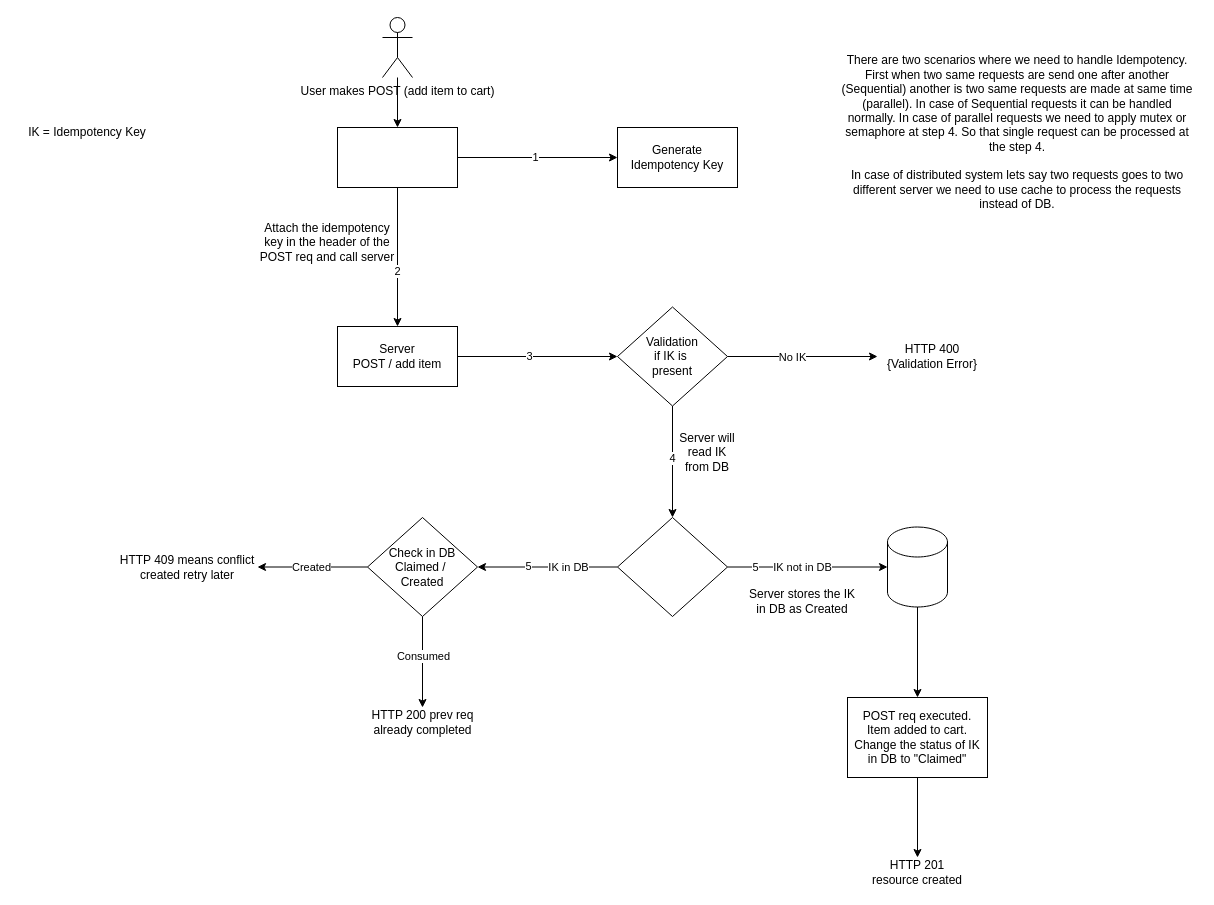
Image size: 1214x905. Some labels were removed from this diagram. The shapes that lost their labels are listed below. From the top down, each one's box as (x1, y1, x2, y2) in pixels, then its label:
(336, 126, 458, 188): Client
(616, 516, 728, 616): Check in DB
(886, 526, 948, 607): DB stores IK
